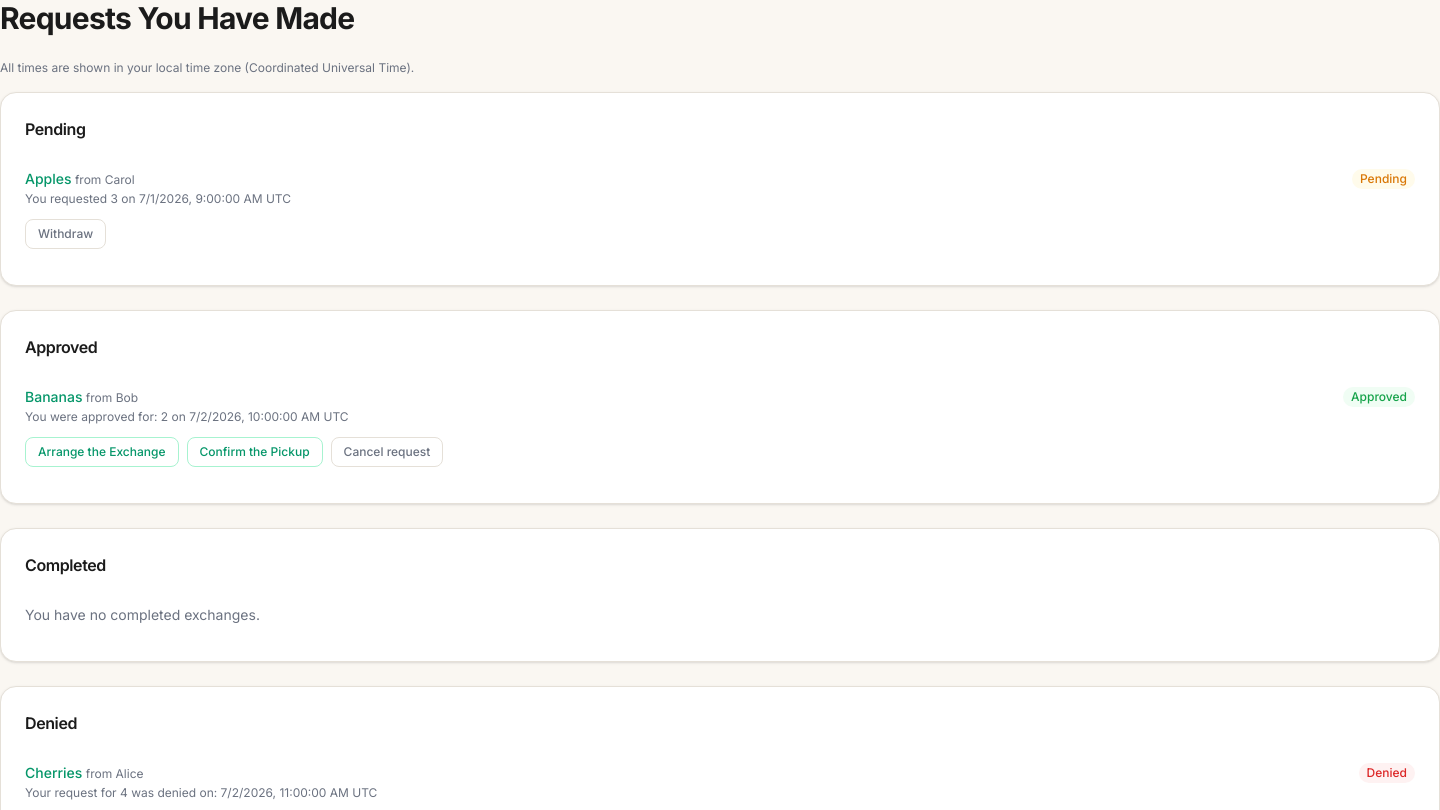
Test: clicking Withdraw reloads and the request moves from Pending to Withdrawn
The width and height of the screenshot is (1440, 810).
Click the button "Withdraw": (66,234) [25,219,106,249]
(page scrolled)
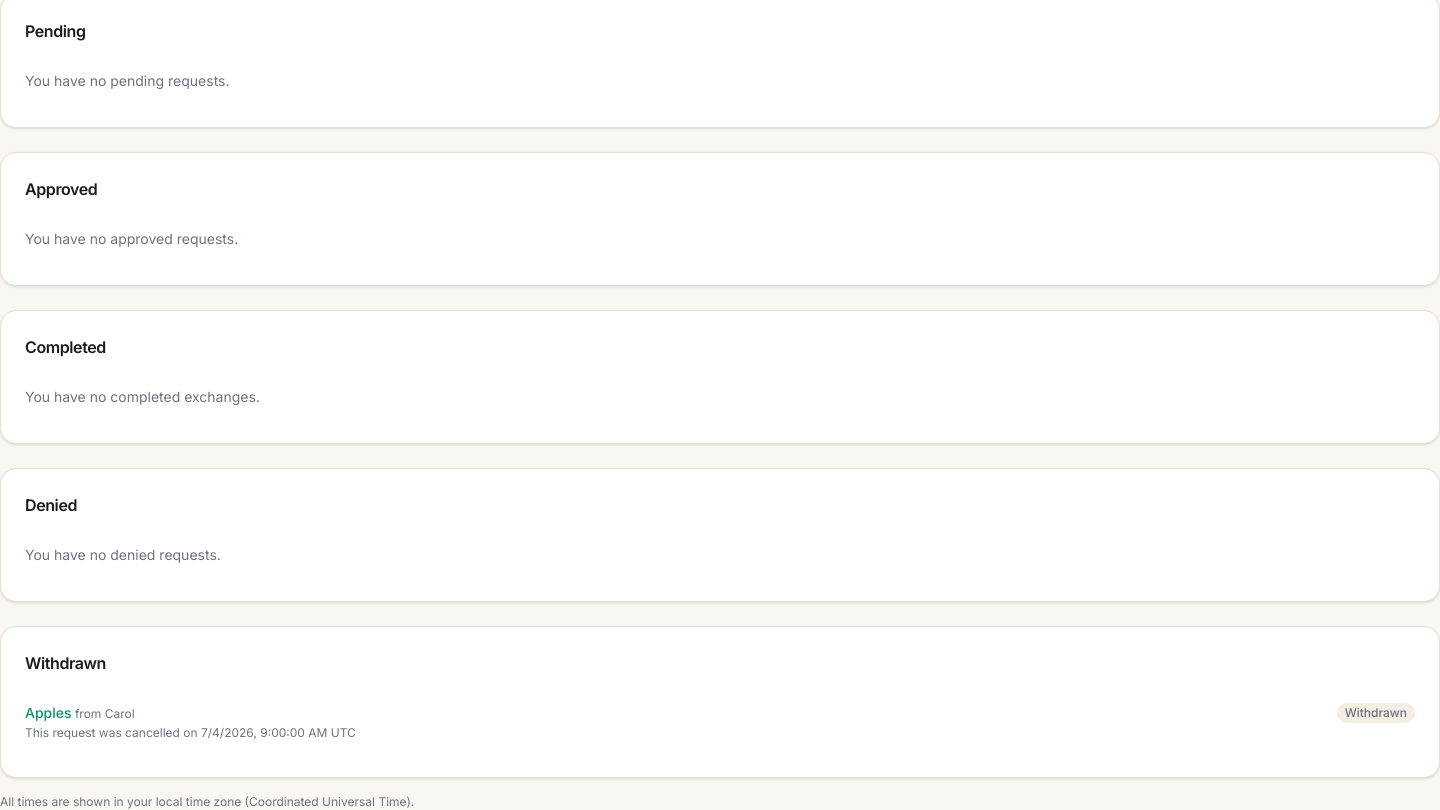
Check: the heading "Withdrawn" is shown, box [25,653,106,673]
Check: the text "You have no pending requests." is shown, box [25,72,230,89]
Check: the text "This request was cancelled on 7/4/2026, 9:00:00 AM UTC" is shown, box [25,725,356,741]
